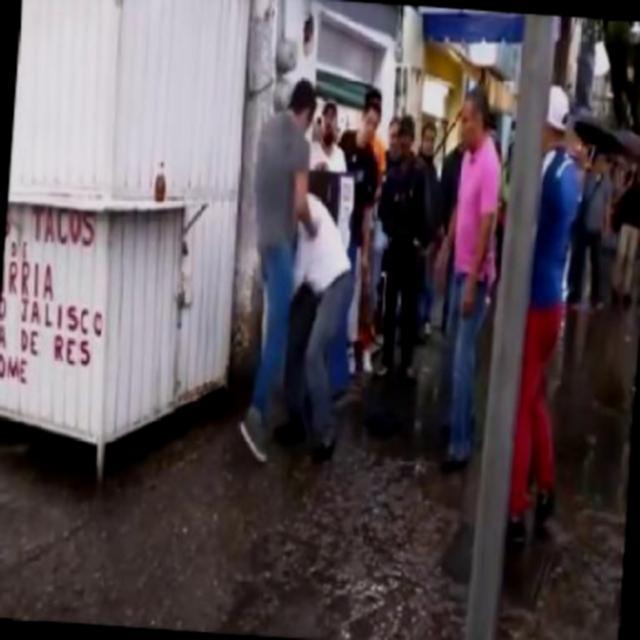fight: (230, 68, 372, 474)
non-fight: (499, 90, 584, 539), (426, 81, 508, 474), (366, 116, 440, 387)
